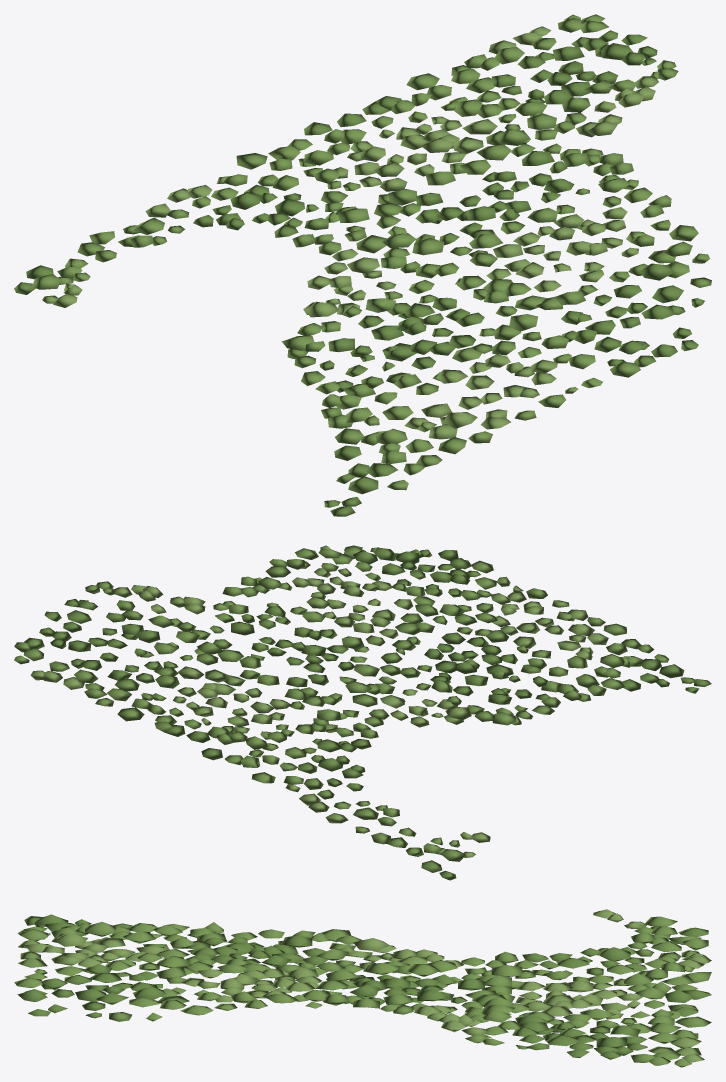
Rendered from canopy-1--4--4.glb.
The picture shows the model from 3 angles, top to bottom: view 1: azimuth 30°, elevation 25°; view 2: azimuth 150°, elevation 25°; view 3: azimuth 270°, elevation 25°; orthographic projection. The views are drawn at different scales.
Bounding box in the file's own units: 505 × 140 × 515.
Materials: 1 (1 with a texture image).
